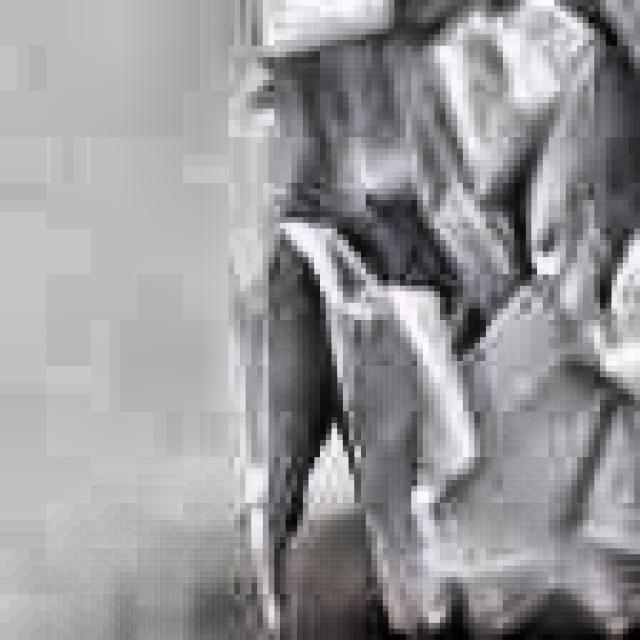paper: (232, 0, 640, 640)
